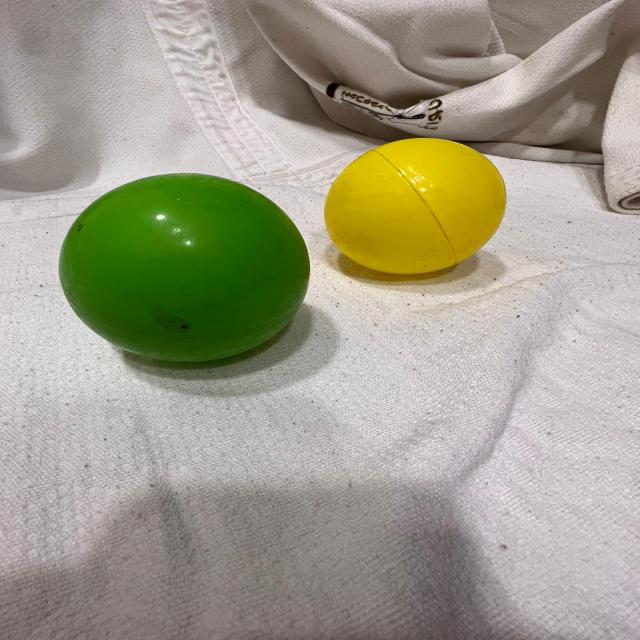ball: (56, 170, 314, 368), (320, 132, 512, 279)
